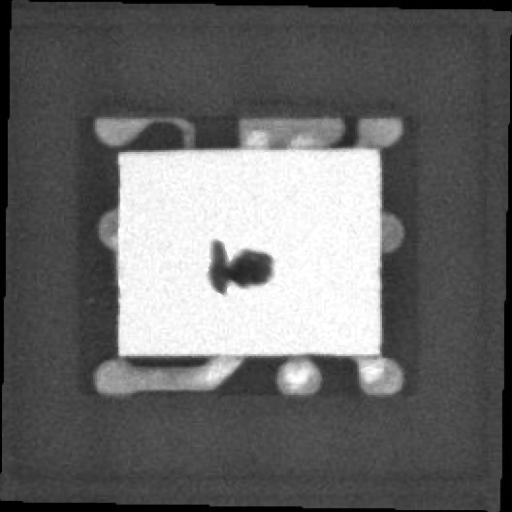DIE_INK: (193, 248, 260, 308)
